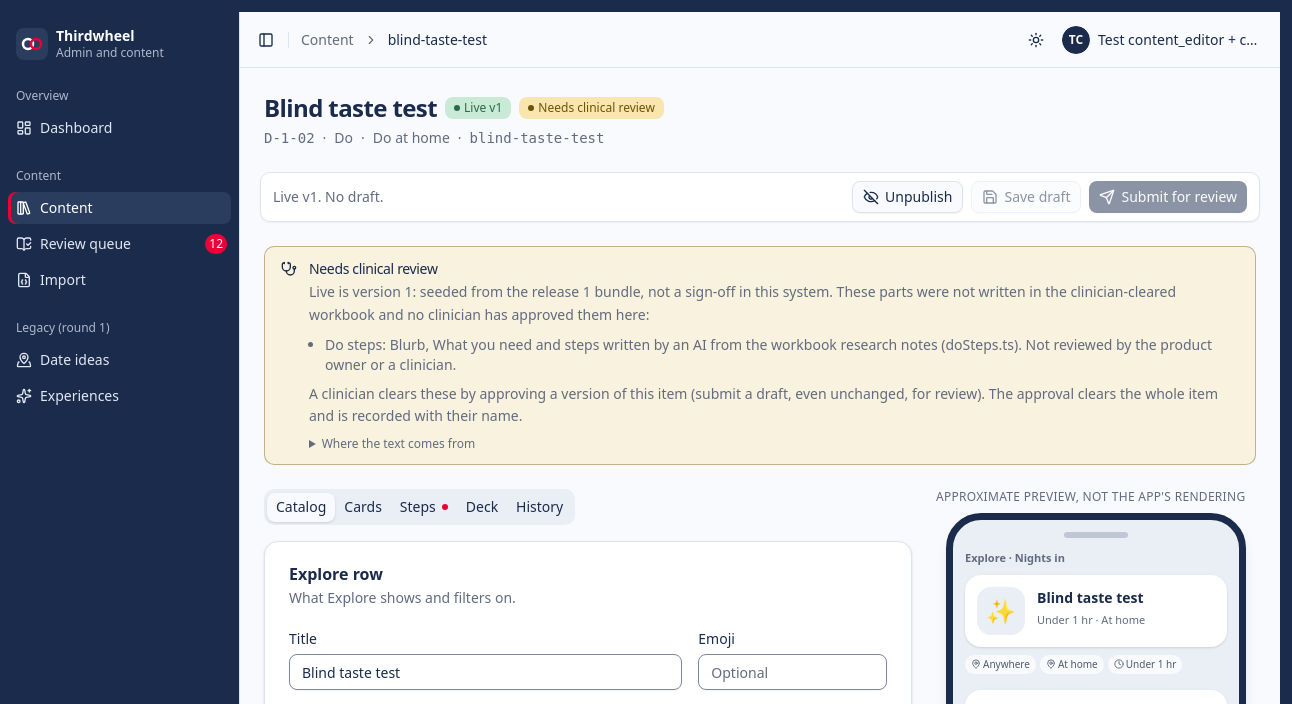
Scenario: content audit (mock API) › a save after someone else saved shows the conflict, keeps the edits and offers the JSON
Replace the text in the field labelled "Title" with "Mine": (486, 672) [289,654,682,690]
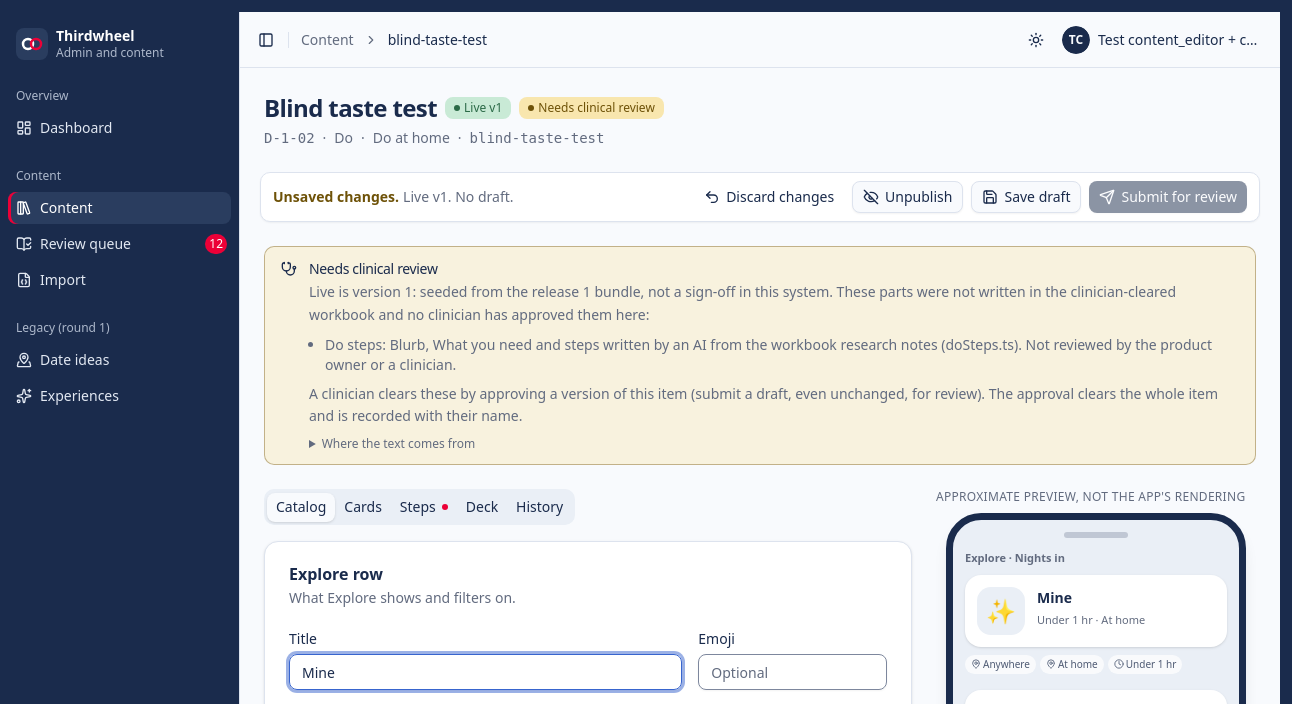
Click the button "Save draft": click(1026, 197) [972,181,1082,213]
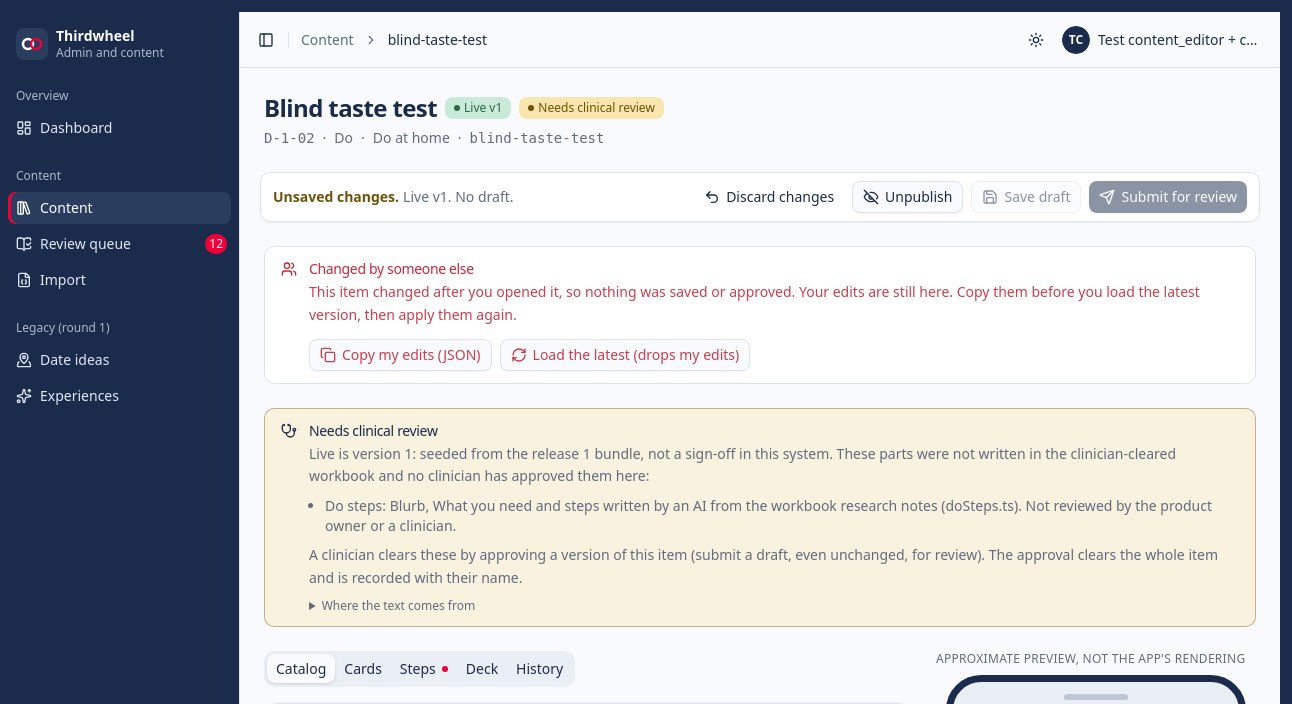
expect the button "Copy my edits (JSON)" is shown: met, box [309,338,492,370]
expect the button "Save draft" is disabled: met, box [972,181,1082,213]
Click the button "Load the latest (drops my edits)": click(625, 354) [500,338,750,370]
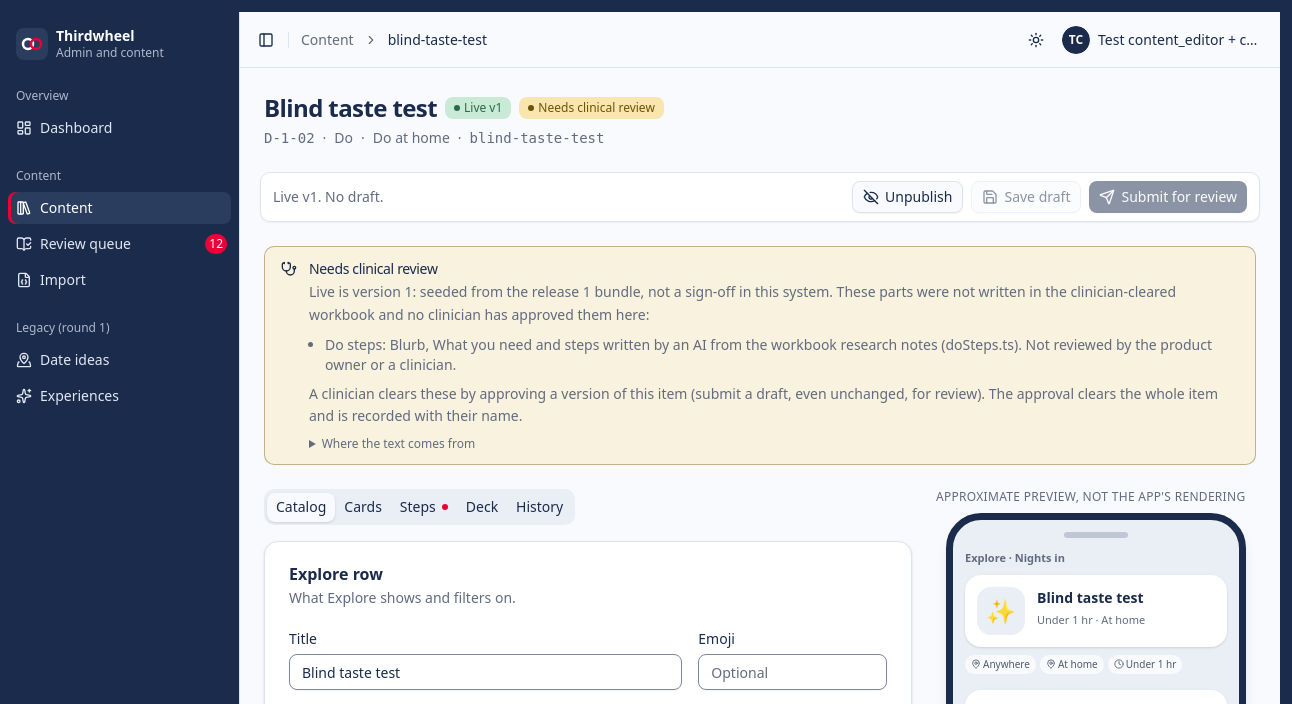
expect the text "Changed by someone else" is gone: met
expect the field labelled "Title" holds "Blind taste test": met, box [289,654,682,690]
